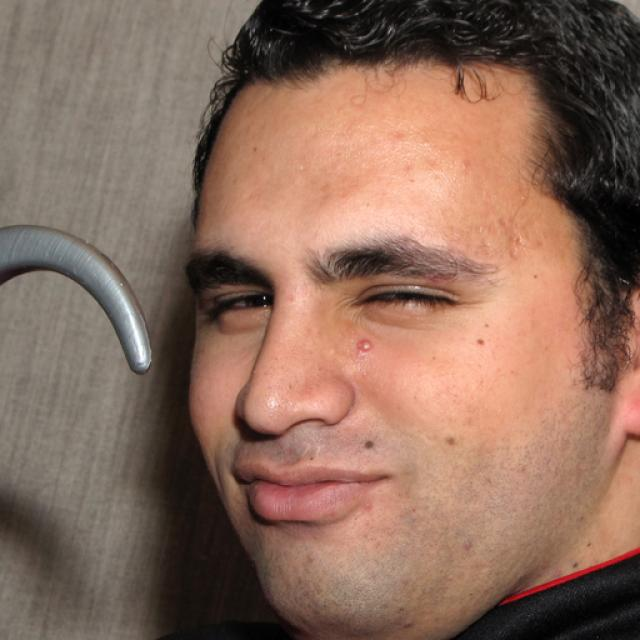Acne: (351, 338, 377, 355)
